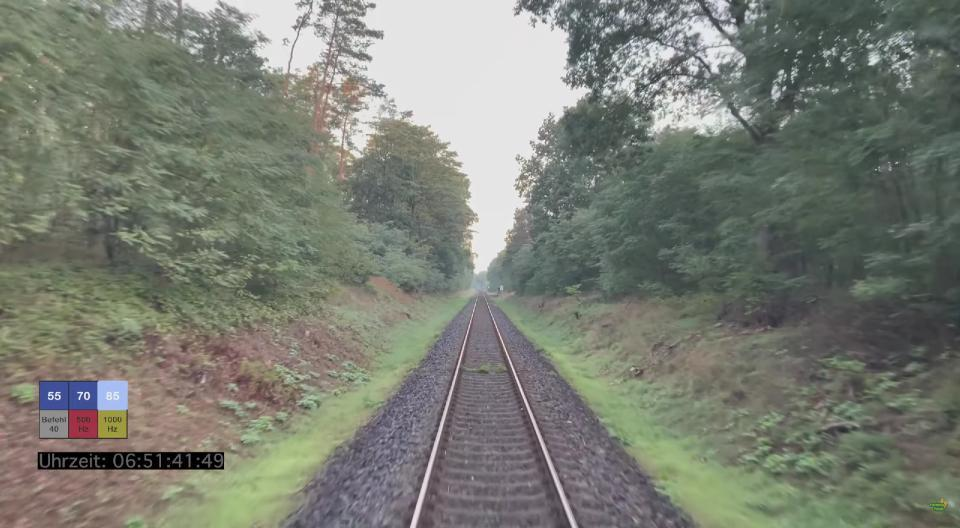Plant: (466, 363, 506, 374)
